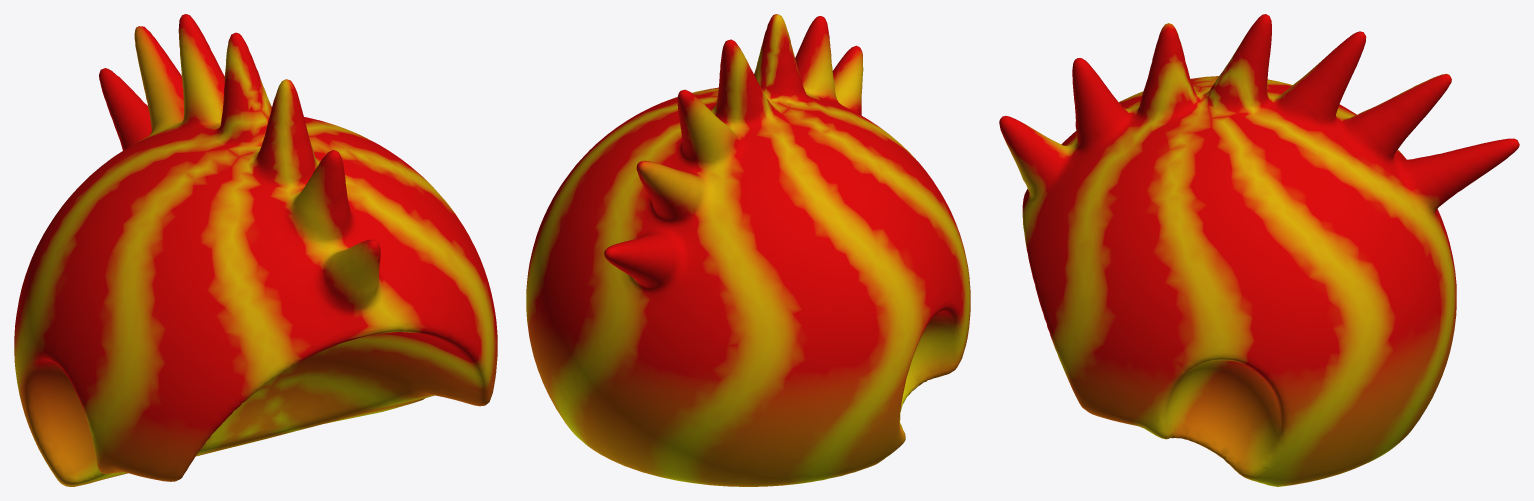
File: mohawk.glb
3 views of the same model, side by side, from view 1: azimuth 30°, elevation 25°; view 2: azimuth 150°, elevation 25°; view 3: azimuth 270°, elevation 25° (orthographic). The views are drawn at different scales.
Parts seen in each view (by area): view 1: part; view 2: part; view 3: part.
Part boxes in pixels (x1,y1,x2,y2): part: (14, 14, 497, 486); part: (526, 14, 970, 486); part: (999, 14, 1519, 486).
Size of the model in its own units: 2 by 1.95 by 2.31.
